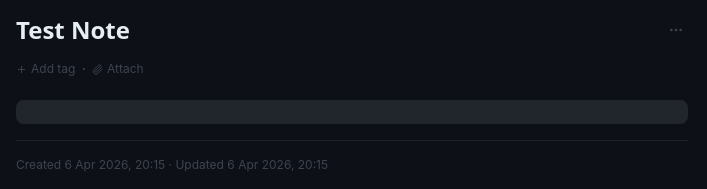
Test: NoteDetail › shows Accept note as disabled when note has no content
Click the button named "Note actions" at x=676, y=30, box [664,18,688,42]
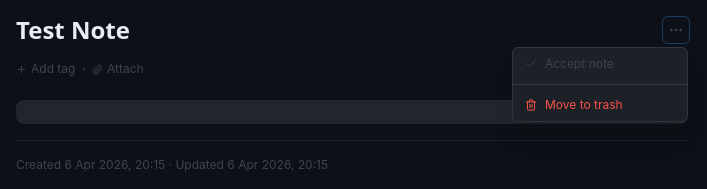
Expected: the button "Accept note" is disabled, [513,48,687,80]
